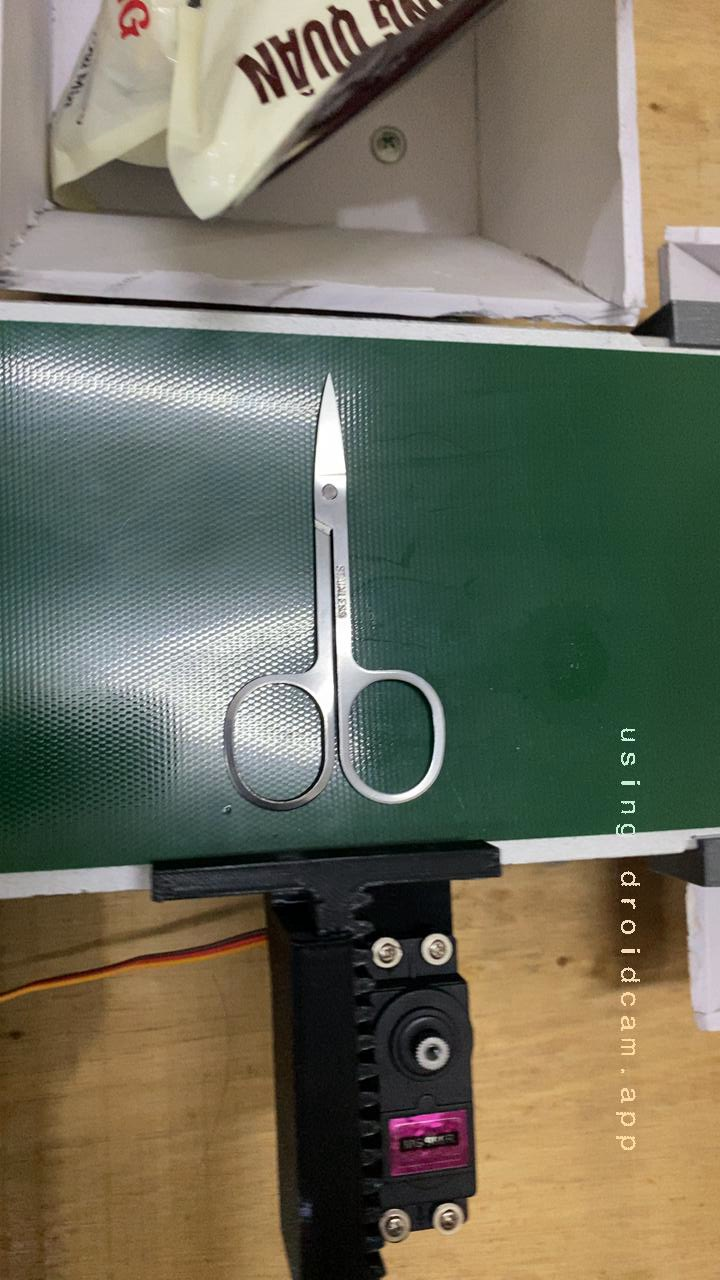scissor: (204, 401, 463, 820)
